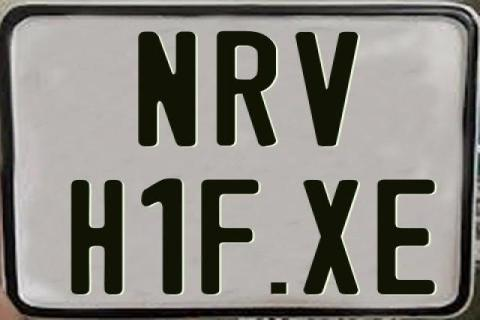0: (141, 177, 182, 295)
E: (376, 178, 437, 298)
F: (200, 179, 262, 296)
H: (69, 178, 126, 292)
N: (135, 30, 197, 148)
R: (215, 29, 276, 148)
V: (295, 32, 359, 147)
X: (300, 179, 356, 295)
